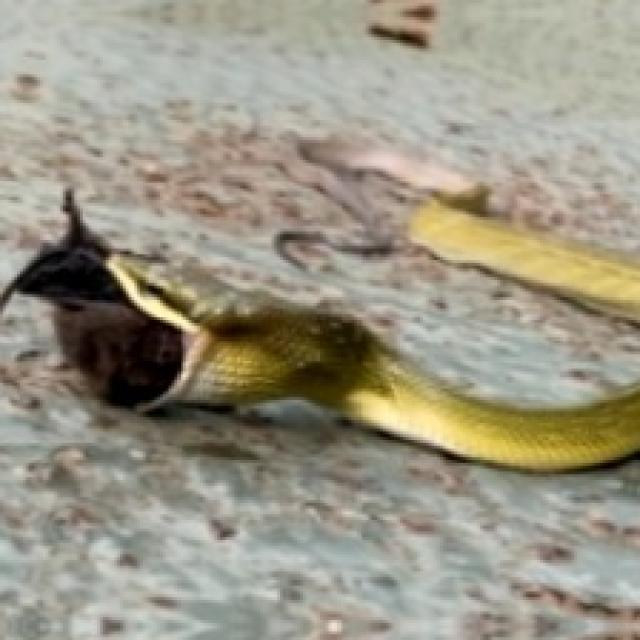red-tailed green ratsnake: (106, 252, 640, 469), (412, 198, 640, 323)
